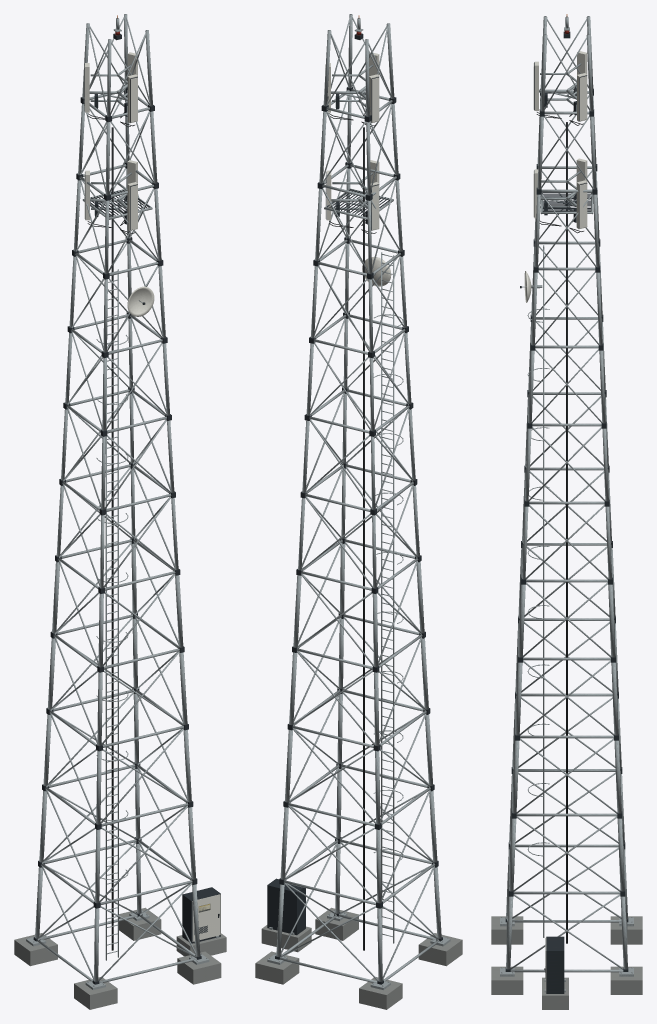
3 views of the same model, side by side, from view 1: azimuth 30°, elevation 25°; view 2: azimuth 150°, elevation 25°; view 3: azimuth 270°, elevation 25° (orthographic).
Parts seen in each view (by area): view 1: VIS_LATTICE_BRACES__galvanized, VIS_LATTICE_LEGS__galvanized, VIS_LATTICE_HORIZONTALS__galvanized, VIS_FOOTINGS__concrete, VIS_SERVICE_LADDER__galvanized, VIS_CABLES__black_polymer, VIS_SECTOR_ANTENNAS__radome, VIS_GUSSET_PLATES__dark_paint, VIS_CABINET_FACE__radome, VIS_CABINETS__dark_paint, VIS_RF_MOUNTS__galvanized, VIS_SERVICE_FOUNDATION__concrete (+1 smaller); view 2: VIS_LATTICE_BRACES__galvanized, VIS_LATTICE_LEGS__galvanized, VIS_LATTICE_HORIZONTALS__galvanized, VIS_FOOTINGS__concrete, VIS_SERVICE_LADDER__galvanized, VIS_CABLES__black_polymer, VIS_SECTOR_ANTENNAS__radome, VIS_GUSSET_PLATES__dark_paint, VIS_CABINETS__dark_paint, VIS_RF_MOUNTS__galvanized, VIS_SERVICE_FOUNDATION__concrete; view 3: VIS_LATTICE_LEGS__galvanized, VIS_LATTICE_BRACES__galvanized, VIS_LATTICE_HORIZONTALS__galvanized, VIS_FOOTINGS__concrete, VIS_SECTOR_ANTENNAS__radome, VIS_CABLES__black_polymer, VIS_SERVICE_LADDER__galvanized, VIS_GUSSET_PLATES__dark_paint, VIS_CABINETS__dark_paint, VIS_RF_MOUNTS__galvanized, VIS_PLATFORM_GRATING__dark_paint, VIS_SERVICE_FOUNDATION__concrete (+2 smaller).
Part boxes in pixels (x1,y1,x2,y2): VIS_LATTICE_BRACES__galvanized: (37, 14, 196, 980); VIS_LATTICE_LEGS__galvanized: (35, 14, 200, 981); VIS_LATTICE_HORIZONTALS__galvanized: (37, 90, 196, 982); VIS_FOOTINGS__concrete: (14, 907, 221, 1009); VIS_SERVICE_LADDER__galvanized: (105, 269, 118, 960); VIS_CABLES__black_polymer: (87, 112, 135, 950); VIS_SECTOR_ANTENNAS__radome: (84, 52, 137, 230); VIS_GUSSET_PLATES__dark_paint: (33, 92, 201, 984); VIS_CABINET_FACE__radome: (192, 894, 220, 941); VIS_CABINETS__dark_paint: (182, 887, 220, 943); VIS_RF_MOUNTS__galvanized: (89, 64, 131, 213); VIS_SERVICE_FOUNDATION__concrete: (176, 933, 226, 956); VIS_LATTICE_BRACES__galvanized: (280, 14, 438, 980); VIS_LATTICE_LEGS__galvanized: (276, 14, 441, 981); VIS_LATTICE_HORIZONTALS__galvanized: (280, 89, 439, 982); VIS_FOOTINGS__concrete: (255, 907, 462, 1009); VIS_SERVICE_LADDER__galvanized: (381, 252, 394, 943); VIS_CABLES__black_polymer: (328, 113, 376, 950); VIS_SECTOR_ANTENNAS__radome: (325, 52, 379, 230); VIS_GUSSET_PLATES__dark_paint: (275, 87, 442, 984); VIS_CABINETS__dark_paint: (267, 878, 305, 935); VIS_RF_MOUNTS__galvanized: (331, 64, 373, 214); VIS_SERVICE_FOUNDATION__concrete: (261, 925, 311, 952); VIS_LATTICE_LEGS__galvanized: (506, 16, 627, 969); VIS_LATTICE_BRACES__galvanized: (507, 16, 626, 969); VIS_LATTICE_HORIZONTALS__galvanized: (506, 91, 627, 972); VIS_FOOTINGS__concrete: (491, 916, 642, 994); VIS_SECTOR_ANTENNAS__radome: (533, 51, 587, 229); VIS_CABLES__black_polymer: (536, 111, 583, 943); VIS_SERVICE_LADDER__galvanized: (543, 245, 544, 937); VIS_GUSSET_PLATES__dark_paint: (505, 88, 628, 971); VIS_CABINETS__dark_paint: (546, 936, 564, 993); VIS_RF_MOUNTS__galvanized: (539, 63, 581, 210); VIS_PLATFORM_GRATING__dark_paint: (542, 192, 591, 211); VIS_SERVICE_FOUNDATION__concrete: (542, 977, 568, 1009).
Bounding box in the file's own units: 6.42 × 36 × 5.2.
Materials: 8 (8 with a texture image).
